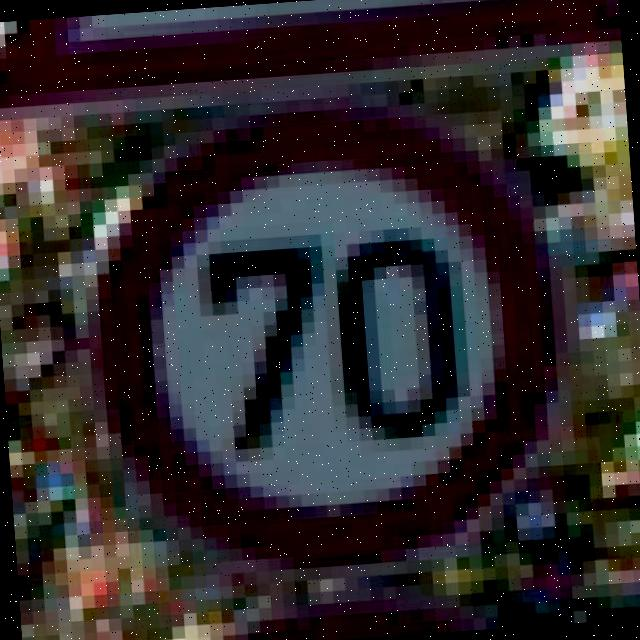Ograniczenie predkosci do 70: (82, 96, 572, 592)
